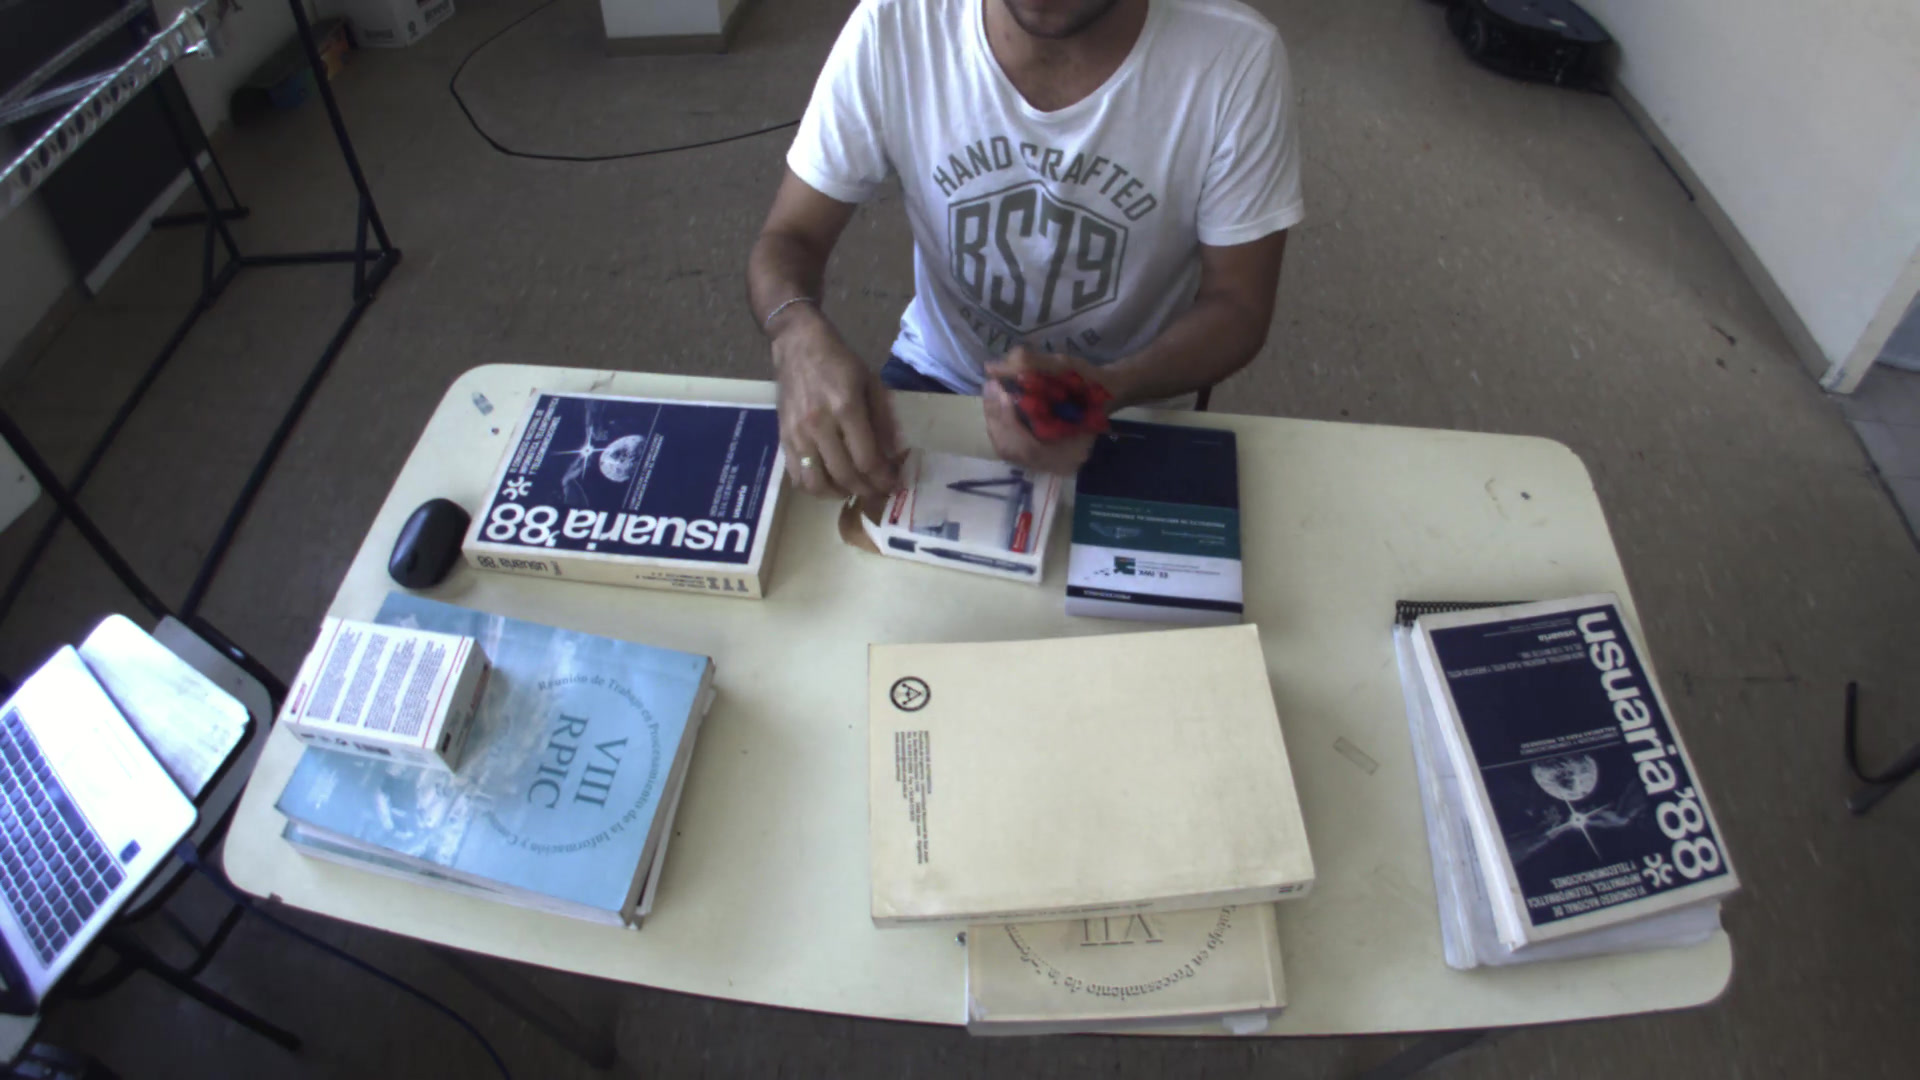hand: (756, 305, 905, 510), (969, 339, 1125, 487)
